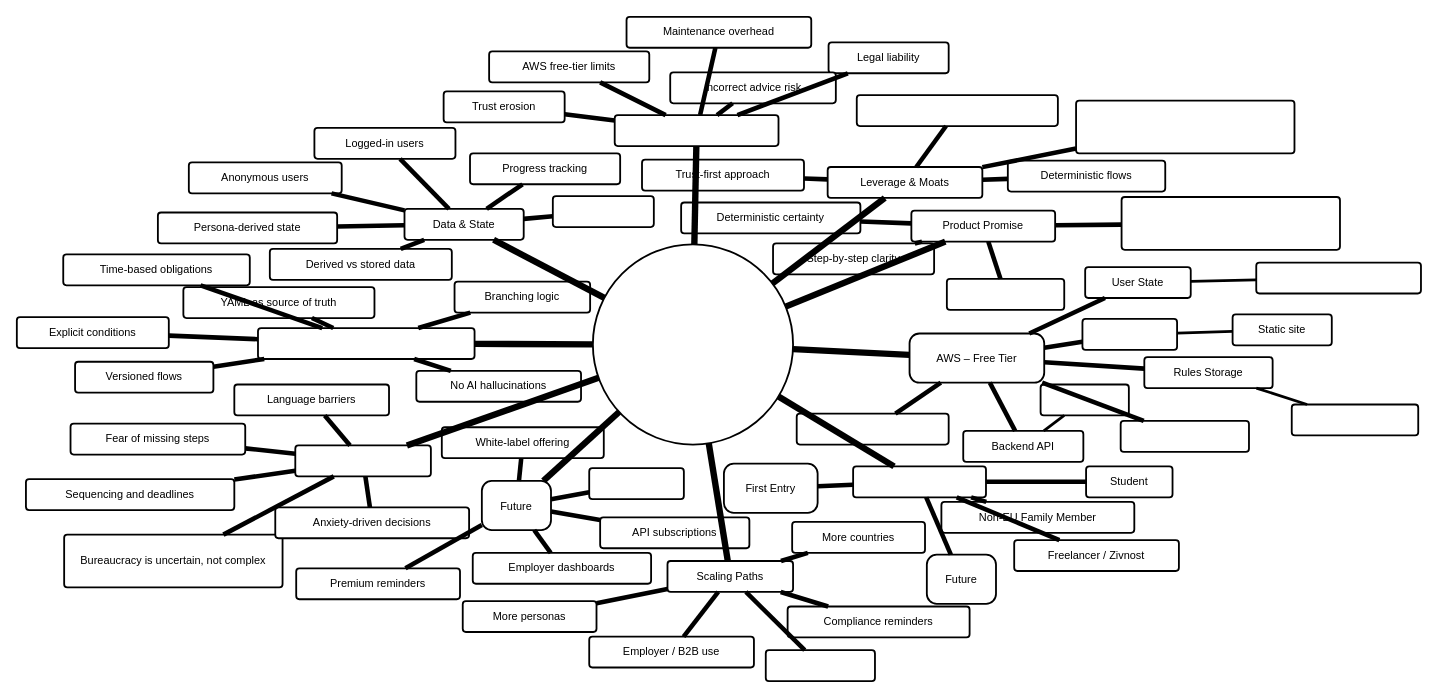
Image size: 1437x697. Some labels were removed from this diagram. The centre of each missing label's shape, as x and y in pixels:
"API access" goes at pixel 819 665.
"Authentication" goes at pixel 1184 436.
"Deadlines" goes at pixel 602 211.
"FastAPI" goes at pixel 1084 399.
"Frontend" goes at pixel 1129 334.
"Guaranteed compliance if followed" goes at pixel 1230 223.
"Minimal persistence" goes at pixel 1338 277.
"No guessing" goes at pixel 1005 294.
"Not MVP" goes at pixel 636 483.
"Problem Space" goes at pixel 362 460.
"Risks & Constraints" goes at pixel 696 130.
"Rules Engine / Determinism" goes at pixel 366 343.
"Rules engine extensibility" goes at pixel 956 110.
"Scheduling / Cron" goes at pixel 872 428.
"Simplify Slovakia – Master Map" goes at pixel 693 344.
"Structured bureaucracy knowledge" goes at pixel 1185 126.
"User Personas" goes at pixel 919 481.
"YAML parsing" goes at pixel 1354 419.
